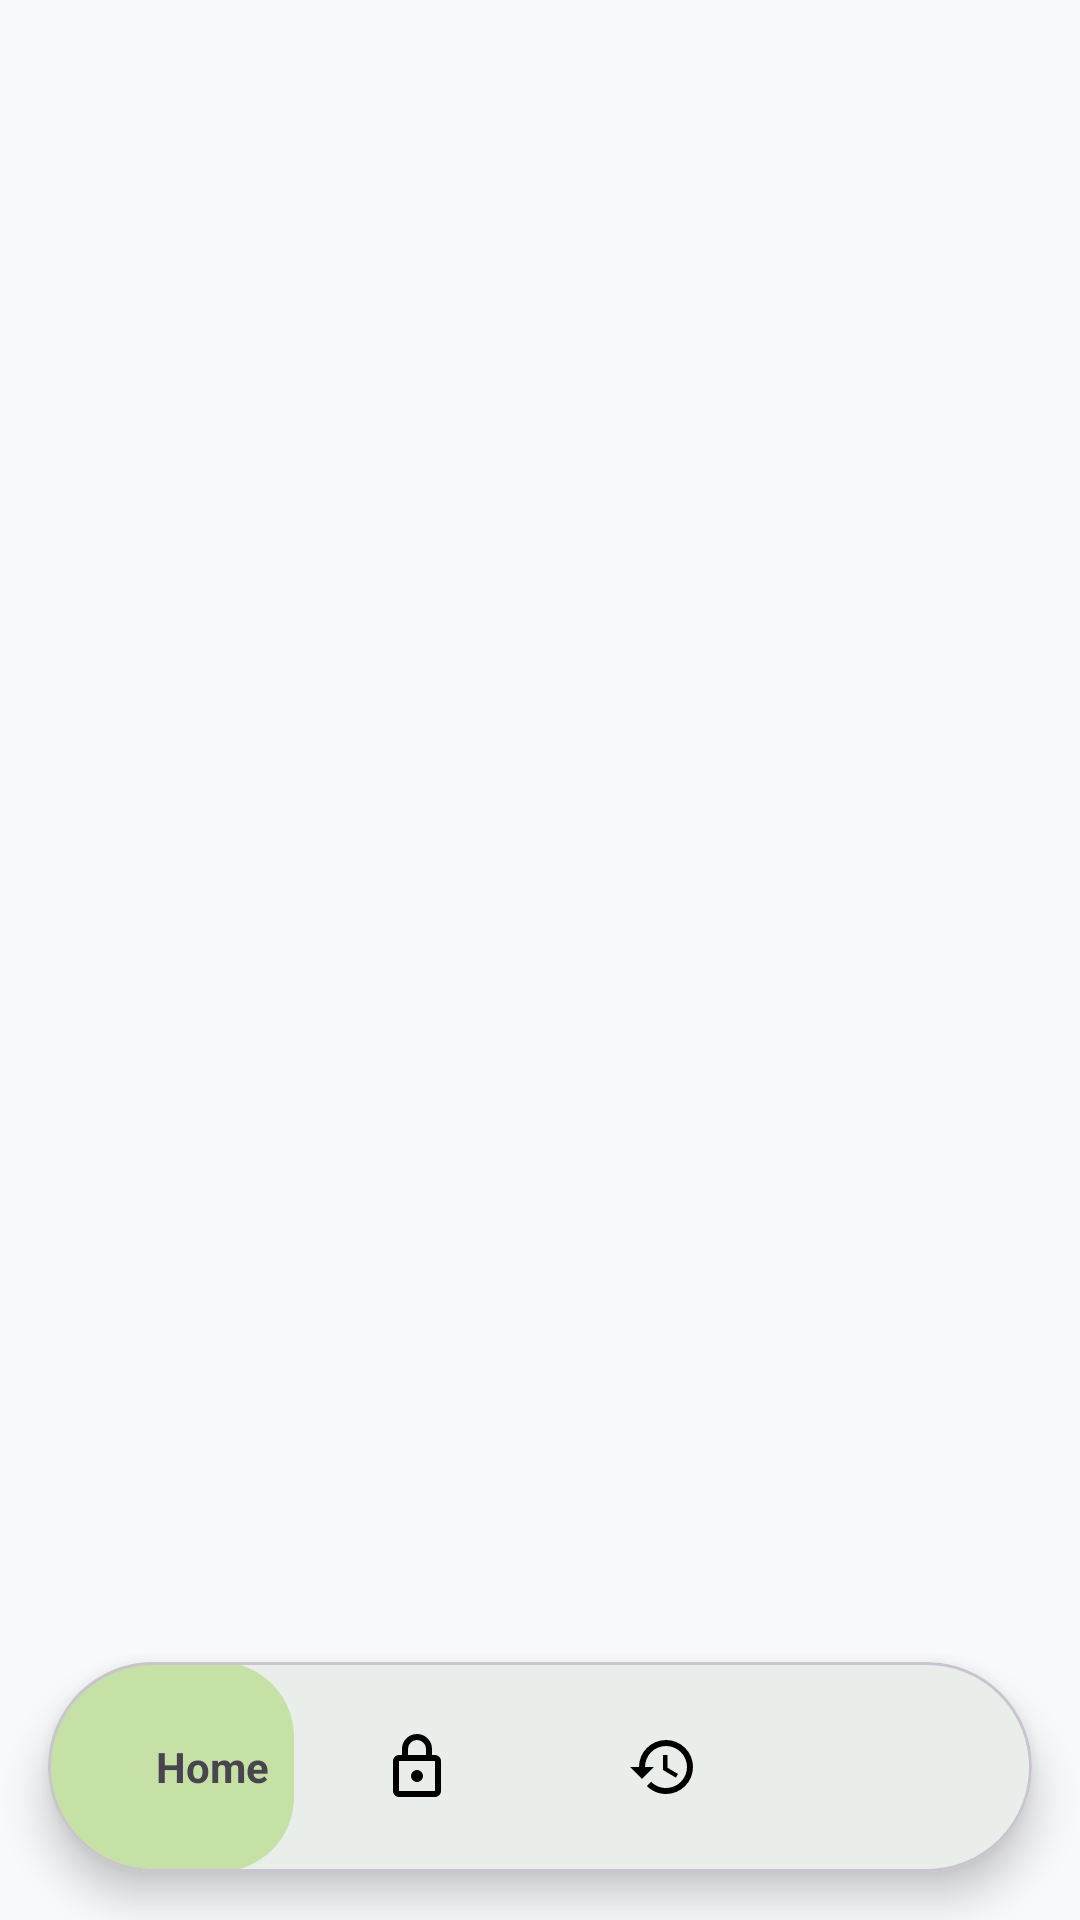

Named icons in this screenshot (1080px×1920px) and their bounding boxes, region(x1, y1, x2, y2):
history: region(630, 1740, 693, 1794)
locker: region(393, 1734, 441, 1797)
